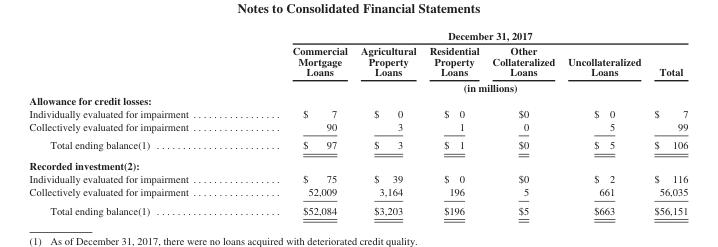table: (28, 28, 687, 215)
table column: (28, 28, 239, 215), (239, 28, 353, 215), (560, 28, 646, 215), (485, 28, 560, 215), (353, 28, 422, 215), (422, 28, 485, 215), (646, 28, 687, 215)
table column header: (28, 28, 687, 93)
table projected row header: (28, 155, 687, 172), (28, 93, 687, 106)
table row: (28, 42, 687, 79), (28, 135, 687, 155), (28, 155, 687, 172), (28, 119, 687, 135), (28, 185, 687, 200), (28, 200, 687, 215), (28, 28, 687, 42), (28, 79, 687, 93), (28, 93, 687, 106), (28, 106, 687, 119), (28, 172, 687, 185)
table spanning cell: (239, 28, 687, 42), (239, 79, 687, 93)
